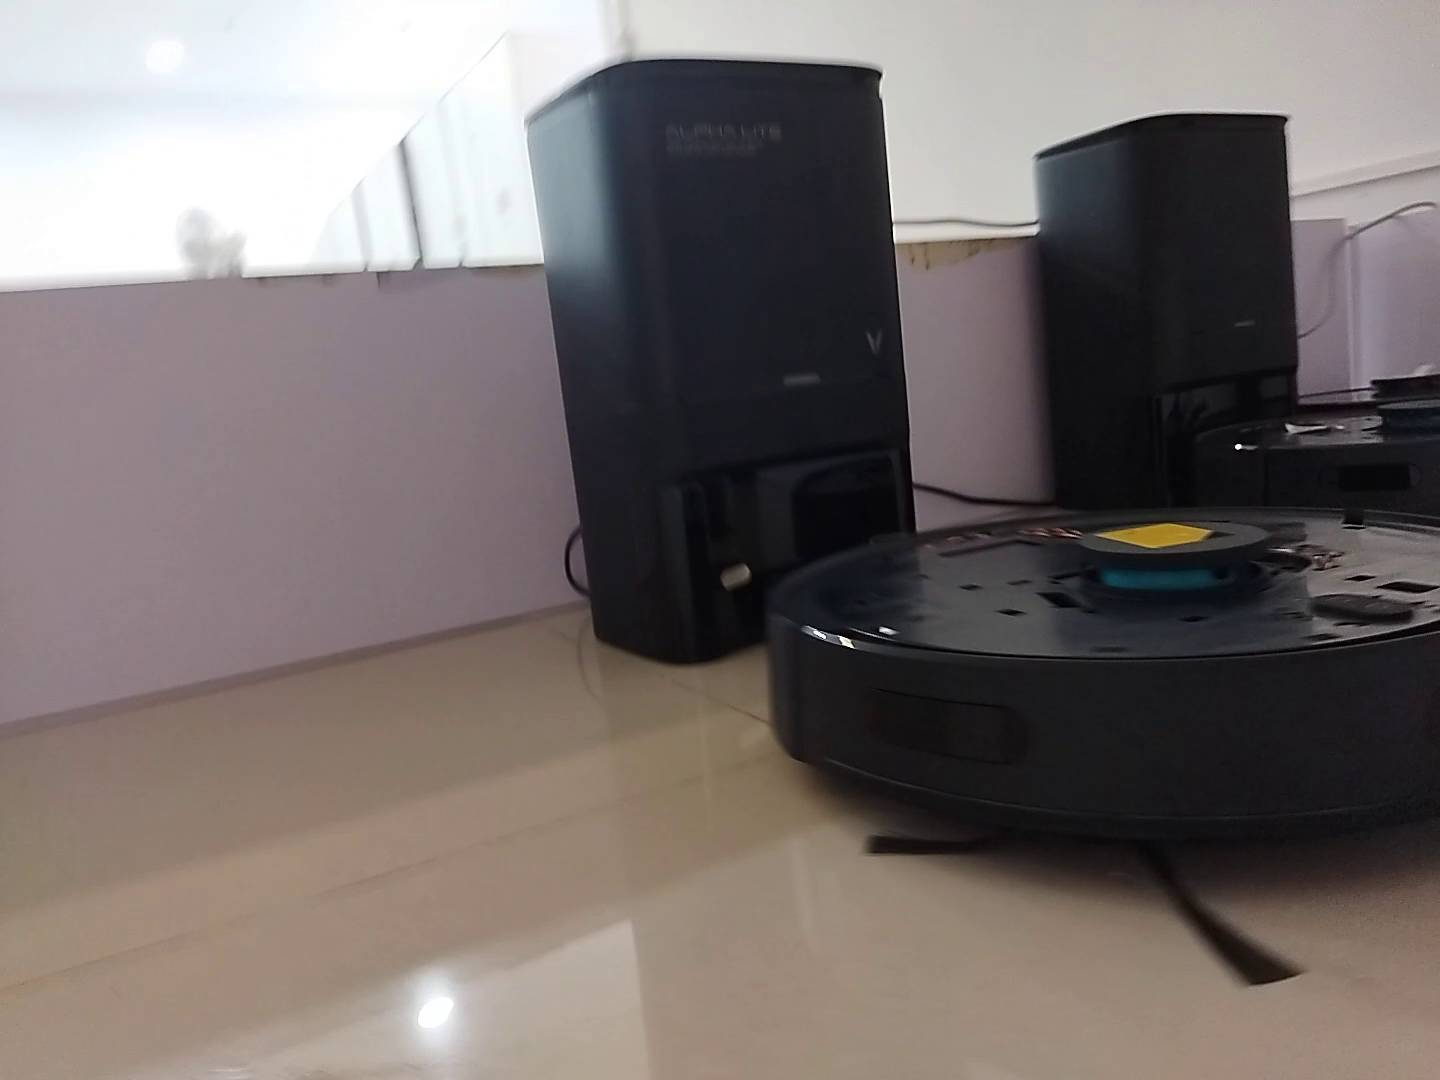dust collecting barrel: (525, 60, 921, 669), (1033, 113, 1303, 503)
